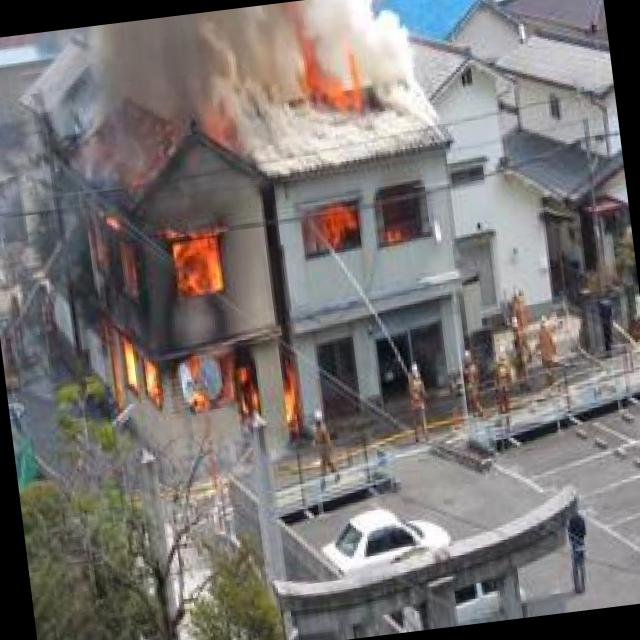Fire: (162, 220, 244, 301), (272, 348, 317, 443), (296, 196, 359, 258), (116, 336, 169, 404), (229, 352, 272, 423)
Smoke: (70, 0, 458, 198)
